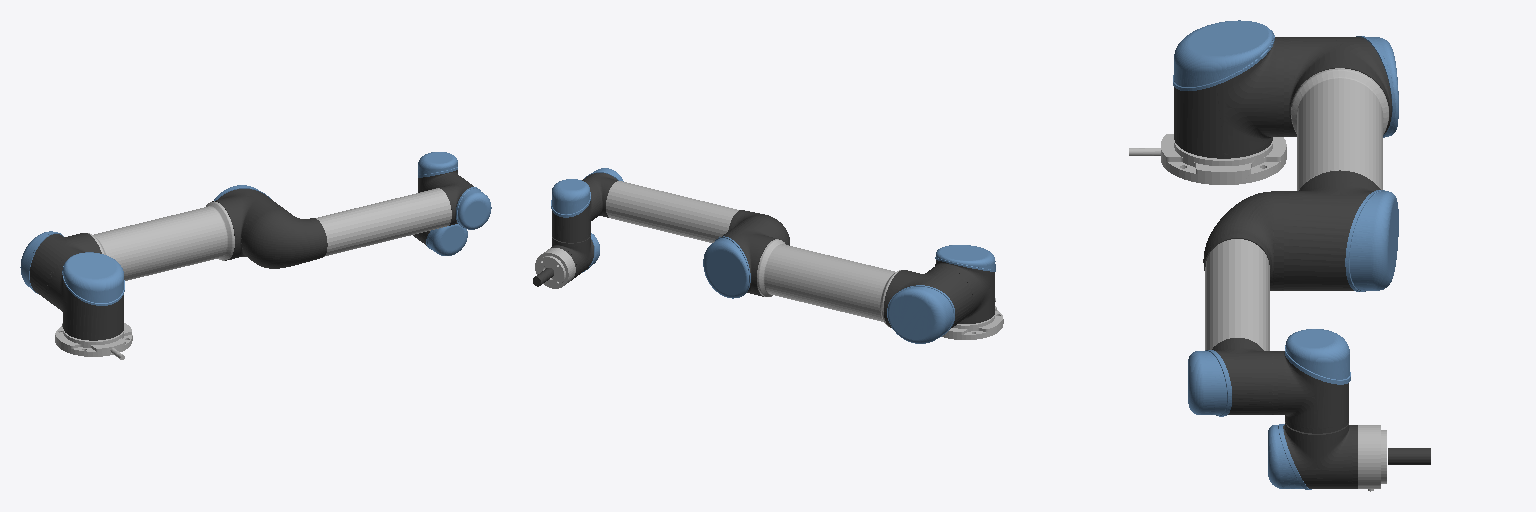
URDF robot description (ur5):
<?xml version="1.0" encoding="utf-8"?>
<!-- =================================================================================== -->
<!-- |    This document was autogenerated by xacro from ur5_robot.urdf.xacro           | -->
<!-- |    EDITING THIS FILE BY HAND IS NOT RECOMMENDED                                 | -->
<!-- =================================================================================== -->
<robot name="ur5">
  <!-- measured from model -->
  <!--property name="shoulder_height" value="0.089159" /-->
  <!--property name="shoulder_offset" value="0.13585" /-->
  <!-- shoulder_offset - elbow_offset + wrist_1_length = 0.10915 -->
  <!--property name="upper_arm_length" value="0.42500" /-->
  <!--property name="elbow_offset" value="0.1197" /-->
  <!-- CAD measured -->
  <!--property name="forearm_length" value="0.39225" /-->
  <!--property name="wrist_1_length" value="0.093" /-->
  <!-- CAD measured -->
  <!--property name="wrist_2_length" value="0.09465" /-->
  <!-- In CAD this distance is 0.930, but in the spec it is 0.09465 -->
  <!--property name="wrist_3_length" value="0.0823" /-->
  <!-- manually measured -->

  <!-- ~= Kd * (1+Ks) -->
  <material name="Rohr">
    <color rgba="0.75 0.75 0.75 1.0"/>
  </material>
  <material name="verbindung">
    <color rgba="0.3 0.3 0.3 1.0"/>
  </material>
  <material name="blau">
    <color rgba="0.45 0.6 0.75 1.0"/>
  </material>

  <material name="Rohr">
    <color rgba="0.524800 0.524800 0.524800 1.0"/>
  </material>
  <material name="verbindung">
    <color rgba="0.178400 0.178400 0.178400 1.0"/>
  </material>
  <material name="blau">
    <color rgba="0.313600 0.434400 0.512000 1.0"/>
  </material>

  <inertial name="fixing">
      <mass value="0.0"/>
      <origin rpy="0 0 0" xyz="0.0 0.0 0.0"/>
      <inertia ixx="0.0" ixy="0.0" ixz="0.0" iyy="0.0" iyz="0.0" izz="0.0"/>
  </inertial>


  <link name="base_link">
    <visual>
      <geometry>
        <mesh filename="base.obj"/>
      </geometry>
      <material name="Rohr"/>
    </visual>
    <collision>
      <geometry>
        <mesh filename="collision/base.stl"/>
      </geometry>
    </collision>
    <inertial>
      <mass value="4.0"/>
      <origin rpy="0 0 0" xyz="0.0 0.0 0.0"/>
      <inertia ixx="0.00443333156" ixy="0.0" ixz="0.0" iyy="0.00443333156" iyz="0.0" izz="0.0072"/>
    </inertial>
  </link>



  <joint name="shoulder_pan_joint" type="revolute">
    <parent link="base_link"/>
    <child link="shoulder_link"/>
    <origin rpy="0.0 0.0 0.0" xyz="0.0 0.0 0.089159"/>
    <axis xyz="0 0 1"/>
    <limit effort="150.0" lower="-6.28318530718" upper="6.28318530718" velocity="3.15"/>
    <dynamics damping="0.0" friction="0.0"/>
  </joint>
  <link name="shoulder_link">
    <visual>
      <geometry>
        <mesh filename="shoulder.obj"/>
      </geometry>
      <material name="verbindung"/>
    </visual>
    <collision>
      <geometry>
        <mesh filename="collision/shoulder.stl"/>
      </geometry>
    </collision>
    <inertial>
      <mass value="3.7"/>
      <origin rpy="0 0 0" xyz="0.0 0.0 0.0"/>
      <inertia ixx="0.010267495893" ixy="0.0" ixz="0.0" iyy="0.010267495893" iyz="0.0" izz="0.00666"/>
    </inertial>
  </link>
  <joint name="shoulder_pan_fix_joint" type="fixed">
    <parent link="shoulder_link"/>
    <child link="shoulder02_link"/>
  </joint>
  <link name="shoulder02_link">
    <visual>
      <geometry>
        <mesh filename="shoulder02.obj"/>
      </geometry>
      <material name="blau"/>
    </visual>
    <inertial>
        <mass value="0.0"/>
        <origin rpy="0 0 0" xyz="0.0 0.0 0.0"/>
        <inertia ixx="0.0" ixy="0.0" ixz="0.0" iyy="0.0" iyz="0.0" izz="0.0"/>
    </inertial>
  </link>



  <joint name="shoulder_lift_joint" type="revolute">
    <parent link="shoulder_link"/>
    <child link="upper_arm_link"/>
    <origin rpy="0.0 1.57079632679 0.0" xyz="0.0 0.13585 0.0"/>
    <axis xyz="0 1 0"/>
    <limit effort="150.0" lower="-6.28318530718" upper="6.28318530718" velocity="3.15"/>
    <dynamics damping="0.0" friction="0.0"/>
  </joint>
  <link name="upper_arm_link">
    <visual>
      <geometry>
        <mesh filename="upperarm.obj"/>
      </geometry>
      <material name="verbindung"/>
    </visual>
    <collision>
      <geometry>
        <mesh filename="upperarm.obj"/>
      </geometry>
    </collision>
    <inertial>
      <mass value="8.393"/>
      <origin rpy="0 0 0" xyz="0.0 0.0 0.28"/>
      <inertia ixx="0.22689067591" ixy="0.0" ixz="0.0" iyy="0.22689067591" iyz="0.0" izz="0.0151074"/>
    </inertial>
  </link>
  <joint name="shoulder_lift_fix02_joint" type="fixed">
    <parent link="upper_arm_link"/>
    <child link="upper_arm02_link"/>
  </joint>
  <link name="upper_arm02_link">
    <visual>
      <geometry>
        <mesh filename="upperarm02.obj"/>
      </geometry>
      <material name="Rohr"/>
    </visual>
    <collision>
      <geometry>
        <mesh filename="upperarm02.obj"/>
      </geometry>
    </collision>
    <inertial>
      <mass value="0.0"/>
      <origin rpy="0 0 0" xyz="0.0 0.0 0.0"/>
      <inertia ixx="0.0" ixy="0.0" ixz="0.0" iyy="0.0" iyz="0.0" izz="0.0"/>
    </inertial>
  </link>
  <joint name="shoulder_lift_fix03_joint" type="fixed">
    <parent link="upper_arm_link"/>
    <child link="upper_arm03_link"/>
  </joint>
  <link name="upper_arm03_link">
    <visual>
      <geometry>
        <mesh filename="upperarm03.obj"/>
      </geometry>
      <material name="verbindung"/>
    </visual>
    <collision>
      <geometry>
        <mesh filename="upperarm03.obj"/>
      </geometry>
    </collision>
    <inertial>
      <mass value="0.0"/>
      <origin rpy="0 0 0" xyz="0.0 0.0 0.0"/>
      <inertia ixx="0.0" ixy="0.0" ixz="0.0" iyy="0.0" iyz="0.0" izz="0.0"/>
    </inertial>
  </link>
  <joint name="shoulder_lift_fix_01_joint" type="fixed">
    <parent link="upper_arm_link"/>
    <child link="upper_arm_01_link"/>
  </joint>
  <link name="upper_arm_01_link">
    <visual>
      <geometry>
        <mesh filename="upperarm_01.obj"/>
      </geometry>
      <material name="blau"/>
    </visual>
    <collision>
      <geometry>
        <mesh filename="upperarm_01.obj"/>
      </geometry>
    </collision>
    <inertial>
      <mass value="0.0"/>
      <origin rpy="0 0 0" xyz="0.0 0.0 0.0"/>
      <inertia ixx="0.0" ixy="0.0" ixz="0.0" iyy="0.0" iyz="0.0" izz="0.0"/>
    </inertial>
  </link>
  <joint name="shoulder_lift_fix03_01_joint" type="fixed">
    <parent link="upper_arm_link"/>
    <child link="upper_arm03_01_link"/>
  </joint>
  <link name="upper_arm03_01_link">
    <visual>
      <geometry>
        <mesh filename="upperarm03_01.obj"/>
      </geometry>
      <material name="blau"/>
    </visual>
    <collision>
      <geometry>
        <mesh filename="upperarm03_01.obj"/>
      </geometry>
    </collision>
    <inertial>
      <mass value="0.0"/>
      <origin rpy="0 0 0" xyz="0.0 0.0 0.0"/>
      <inertia ixx="0.0" ixy="0.0" ixz="0.0" iyy="0.0" iyz="0.0" izz="0.0"/>
    </inertial>
  </link>



  <joint name="elbow_joint" type="revolute">
    <parent link="upper_arm_link"/>
    <child link="forearm_link"/>
    <origin rpy="0.0 0.0 0.0" xyz="0.0 -0.1197 0.425"/>
    <axis xyz="0 1 0"/>
    <limit effort="150.0" lower="-3.14159265359" upper="3.14159265359" velocity="3.15"/>
    <dynamics damping="0.0" friction="0.0"/>
  </joint>
  <link name="forearm_link">
    <visual>
      <geometry>
        <mesh filename="forearm.obj"/>
      </geometry>
      <material name="verbindung"/>
    </visual>
    <collision>
      <geometry>
        <mesh filename="forearm.obj"/>
      </geometry>
    </collision>
    <inertial>
      <mass value="2.275"/>
      <origin rpy="0 0 0" xyz="0.0 0.0 0.196125"/>
      <inertia ixx="0.0312167910289" ixy="0.0" ixz="0.0" iyy="0.0312167910289" iyz="0.0" izz="0.004095"/>
    </inertial>
  </link>
  <joint name="elbow_fix02_joint" type="fixed">
    <parent link="forearm_link"/>
    <child link="forearm02_link"/>
  </joint>
  <link name="forearm02_link">
    <visual>
      <geometry>
        <mesh filename="forearm02.obj"/>
      </geometry>
      <material name="Rohr"/>
    </visual>
    <collision>
      <geometry>
        <mesh filename="forearm02.obj"/>
      </geometry>
    </collision>
    <inertial>
      <mass value="0.0"/>
      <origin rpy="0 0 0" xyz="0.0 0.0 0.0"/>
      <inertia ixx="0.0" ixy="0.0" ixz="0.0" iyy="0.0" iyz="0.0" izz="0.0"/>
    </inertial>
  </link>
  <joint name="elbow_fix03_joint" type="fixed">
    <parent link="forearm_link"/>
    <child link="forearm03_link"/>
  </joint>
  <link name="forearm03_link">
    <visual>
      <geometry>
        <mesh filename="forearm03.obj"/>
      </geometry>
      <material name="verbindung"/>
    </visual>
    <collision>
      <geometry>
        <mesh filename="forearm03.obj"/>
      </geometry>
    </collision>
    <inertial>
      <mass value="0.0"/>
      <origin rpy="0 0 0" xyz="0.0 0.0 0.0"/>
      <inertia ixx="0.0" ixy="0.0" ixz="0.0" iyy="0.0" iyz="0.0" izz="0.0"/>
    </inertial>
  </link>
  <joint name="elbow_fix03_01_joint" type="fixed">
    <parent link="forearm_link"/>
    <child link="forearm03_01_link"/>
  </joint>
  <link name="forearm03_01_link">
    <visual>
      <geometry>
        <mesh filename="forearm03_01.obj"/>
      </geometry>
      <material name="blau"/>
    </visual>
    <collision>
      <geometry>
        <mesh filename="forearm03_01.obj"/>
      </geometry>
    </collision>
    <inertial>
      <mass value="0.0"/>
      <origin rpy="0 0 0" xyz="0.0 0.0 0.0"/>
      <inertia ixx="0.0" ixy="0.0" ixz="0.0" iyy="0.0" iyz="0.0" izz="0.0"/>
    </inertial>
  </link>



  <joint name="wrist_1_joint" type="revolute">
    <parent link="forearm_link"/>
    <child link="wrist_1_link"/>
    <origin rpy="0.0 1.57079632679 0.0" xyz="0.0 0.0 0.39225"/>
    <axis xyz="0 1 0"/>
    <limit effort="28.0" lower="-6.28318530718" upper="6.28318530718" velocity="3.2"/>
    <dynamics damping="0.0" friction="0.0"/>
  </joint>
  <link name="wrist_1_link">
    <visual>
      <geometry>
        <mesh filename="wrist1.obj"/>
      </geometry>
      <material name="verbindung"/>
    </visual>
    <collision>
      <geometry>
        <mesh filename="wrist1.obj"/>
      </geometry>
    </collision>
    <inertial>
      <mass value="1.219"/>
      <origin rpy="0 0 0" xyz="0.0 0.093 0.0"/>
      <inertia ixx="0.00255989897604" ixy="0.0" ixz="0.0" iyy="0.00255989897604" iyz="0.0" izz="0.0021942"/>
    </inertial>
  </link>
  <joint name="wrist_1_fix_joint" type="fixed">
    <parent link="wrist_1_link"/>
    <child link="wrist_1_01_link"/>
  </joint>
  <link name="wrist_1_01_link">
    <visual>
      <geometry>
        <mesh filename="wrist1_01.obj"/>
      </geometry>
      <material name="blau"/>
    </visual>
    <collision>
      <geometry>
        <mesh filename="wrist1_01.obj"/>
      </geometry>
    </collision>
    <inertial>
      <mass value="0.0"/>
      <origin rpy="0 0 0" xyz="0.0 0.0 0.0"/>
      <inertia ixx="0.0" ixy="0.0" ixz="0.0" iyy="0.0" iyz="0.0" izz="0.0"/>
    </inertial>
  </link>



  <joint name="wrist_2_joint" type="revolute">
    <parent link="wrist_1_link"/>
    <child link="wrist_2_link"/>
    <origin rpy="0.0 0.0 0.0" xyz="0.0 0.093 0.0"/>
    <axis xyz="0 0 1"/>
    <limit effort="28.0" lower="-6.28318530718" upper="6.28318530718" velocity="3.2"/>
    <dynamics damping="0.0" friction="0.0"/>
  </joint>
  <link name="wrist_2_link">
    <visual>
      <geometry>
        <mesh filename="wrist2.obj"/>
      </geometry>
      <material name="verbindung"/>
    </visual>
    <collision>
      <geometry>
        <mesh filename="wrist2.obj"/>
      </geometry>
    </collision>
    <inertial>
      <mass value="1.219"/>
      <origin rpy="0 0 0" xyz="0.0 0.0 0.09465"/>
      <inertia ixx="0.00255989897604" ixy="0.0" ixz="0.0" iyy="0.00255989897604" iyz="0.0" izz="0.0021942"/>
    </inertial>
  </link>
  <joint name="wrist_2_fix_joint" type="fixed">
    <parent link="wrist_2_link"/>
    <child link="wrist_2_01_link"/>
  </joint>
  <link name="wrist_2_01_link">
    <visual>
      <geometry>
        <mesh filename="wrist2_01.obj"/>
      </geometry>
      <material name="blau"/>
    </visual>
    <collision>
      <geometry>
        <mesh filename="wrist2_01.obj"/>
      </geometry>
    </collision>
    <inertial>
      <mass value="0.0"/>
      <origin rpy="0 0 0" xyz="0.0 0.0 0.0"/>
      <inertia ixx="0.0" ixy="0.0" ixz="0.0" iyy="0.0" iyz="0.0" izz="0.0"/>
    </inertial>
  </link>



  <joint name="wrist_3_joint" type="revolute">
    <parent link="wrist_2_link"/>
    <child link="wrist_3_link"/>
    <origin rpy="0.0 0.0 0.0" xyz="0.0 0.0 0.09465"/>
    <axis xyz="0 1 0"/>
    <limit effort="28.0" lower="-6.28318530718" upper="6.28318530718" velocity="3.2"/>
    <dynamics damping="0.0" friction="0.0"/>
  </joint>
  <link name="wrist_3_link">
    <visual>
      <geometry>
        <mesh filename="wrist3.obj"/>
      </geometry>
      <material name="Rohr"/>
    </visual>
    <collision>
      <geometry>
        <mesh filename="wrist3.obj"/>
      </geometry>
    </collision>
    <inertial>
      <mass value="0.1879"/>
      <origin rpy="1.57079632679 0 0" xyz="0.0 0.06505 0.0"/>
      <inertia ixx="8.46958911216e-05" ixy="0.0" ixz="0.0" iyy="8.46958911216e-05" iyz="0.0" izz="0.0001321171875"/>
    </inertial>
  </link>



  <joint name="ee_fixed_joint" type="fixed">
    <parent link="wrist_3_link"/>
    <child link="ee_link"/>
    <origin rpy="0.0 0.0 1.57079632679" xyz="0.0 0.0823 0.0"/>
  </joint>
  <link name="ee_link">
    <collision>
      <geometry>
        <box size="0.01 0.01 0.01"/>
      </geometry>
      <origin rpy="0 0 0" xyz="-0.01 0 0"/>
    </collision>
    <inertial>
      <mass value="0.0"/>
      <origin rpy="0 0 0" xyz="0.0 0.0 0.0"/>
      <inertia ixx="0.0" ixy="0.0" ixz="0.0" iyy="0.0" iyz="0.0" izz="0.0"/>
    </inertial>
  </link>



  <transmission name="shoulder_pan_trans">
    <type>transmission_interface/SimpleTransmission</type>
    <joint name="shoulder_pan_joint">
      <hardwareInterface>hardware_interface/PositionJointInterface</hardwareInterface>
    </joint>
    <actuator name="shoulder_pan_motor">
      <mechanicalReduction>1</mechanicalReduction>
    </actuator>
  </transmission>
  <transmission name="shoulder_lift_trans">
    <type>transmission_interface/SimpleTransmission</type>
    <joint name="shoulder_lift_joint">
      <hardwareInterface>hardware_interface/PositionJointInterface</hardwareInterface>
    </joint>
    <actuator name="shoulder_lift_motor">
      <mechanicalReduction>1</mechanicalReduction>
    </actuator>
  </transmission>
  <transmission name="elbow_trans">
    <type>transmission_interface/SimpleTransmission</type>
    <joint name="elbow_joint">
      <hardwareInterface>hardware_interface/PositionJointInterface</hardwareInterface>
    </joint>
    <actuator name="elbow_motor">
      <mechanicalReduction>1</mechanicalReduction>
    </actuator>
  </transmission>
  <transmission name="wrist_1_trans">
    <type>transmission_interface/SimpleTransmission</type>
    <joint name="wrist_1_joint">
      <hardwareInterface>hardware_interface/PositionJointInterface</hardwareInterface>
    </joint>
    <actuator name="wrist_1_motor">
      <mechanicalReduction>1</mechanicalReduction>
    </actuator>
  </transmission>
  <transmission name="wrist_2_trans">
    <type>transmission_interface/SimpleTransmission</type>
    <joint name="wrist_2_joint">
      <hardwareInterface>hardware_interface/PositionJointInterface</hardwareInterface>
    </joint>
    <actuator name="wrist_2_motor">
      <mechanicalReduction>1</mechanicalReduction>
    </actuator>
  </transmission>
  <transmission name="wrist_3_trans">
    <type>transmission_interface/SimpleTransmission</type>
    <joint name="wrist_3_joint">
      <hardwareInterface>hardware_interface/PositionJointInterface</hardwareInterface>
    </joint>
    <actuator name="wrist_3_motor">
      <mechanicalReduction>1</mechanicalReduction>
    </actuator>
  </transmission>
  <gazebo reference="shoulder_link">
    <selfCollide>true</selfCollide>
  </gazebo>
  <gazebo reference="upper_arm_link">
    <selfCollide>true</selfCollide>
  </gazebo>
  <gazebo reference="forearm_link">
    <selfCollide>true</selfCollide>
  </gazebo>
  <gazebo reference="wrist_1_link">
    <selfCollide>true</selfCollide>
  </gazebo>
  <gazebo reference="wrist_3_link">
    <selfCollide>true</selfCollide>
  </gazebo>
  <gazebo reference="wrist_2_link">
    <selfCollide>true</selfCollide>
  </gazebo>
  <gazebo reference="ee_link">
    <selfCollide>true</selfCollide>
  </gazebo>
  <!-- ROS base_link to UR 'Base' Coordinates transform -->
  <link name="base">
    <inertial>
      <mass value="0.0"/>
      <origin rpy="0 0 0" xyz="0.0 0.0 0.0"/>
      <inertia ixx="0.0" ixy="0.0" ixz="0.0" iyy="0.0" iyz="0.0" izz="0.0"/>
    </inertial>
  </link>
  <joint name="base_link-base_fixed_joint" type="fixed">
    <!-- NOTE: this rotation is only needed as long as base_link itself is
                 not corrected wrt the real robot (ie: rotated over 180
                 degrees)
      -->
    <origin rpy="0 0 -3.14159265359" xyz="0 0 0"/>
    <parent link="base_link"/>
    <child link="base"/>
  </joint>


  <!-- Frame coincident with all-zeros TCP on UR controller -->
  <joint name="wrist_3_link-tool0_fixed_joint" type="fixed">
    <origin rpy="-1.57079632679 0 0" xyz="0 0.0823 0"/>
    <parent link="wrist_3_link"/>
    <child link="tool0"/>
  </joint>
  <link name="tool0">
    <inertial>
      <mass value="0.0"/>
      <origin rpy="0 0 0" xyz="0.0 0.0 0.0"/>
      <inertia ixx="0.0" ixy="0.0" ixz="0.0" iyy="0.0" iyz="0.0" izz="0.0"/>
    </inertial>
  </link>
  <joint name="cup_bar_joint_fixed" type="fixed">
    <origin rpy="0 0 0" xyz="0 0 0.025"/>
    <parent link="tool0"/>
    <child link="cup_bar"/>
  </joint>
  <link name="cup_bar">
    <visual>
      <geometry>
        <cylinder length="0.05" radius="0.01"/>
      </geometry>
      <material name="verbindung"/>
    </visual>
    <collision>
      <geometry>
        <cylinder length="0.05" radius="0.01"/>
      </geometry>
    </collision>
    <inertial>
      <mass value="0.01"/>
      <origin rpy="0 0 0" xyz="0.0 0.0 0.0"/>
      <inertia ixx="0.0" ixy="0.0" ixz="0.0" iyy="0.0" iyz="0.0" izz="0.0"/>
    </inertial>
  </link>


  <link name="world"/>
  <joint name="world_joint" type="fixed">
    <parent link="world"/>
    <child link="base_link"/>
    <origin rpy="0.0 0.0 0.0" xyz="0.0 0.0 0.0"/>
  </joint>
</robot>

--- What the picture shows (computed from the rendered views, not written in the file) ---
Views: 3 orthographic renders of the robot side by side, from view 1: azimuth 30°, elevation 25°; view 2: azimuth 150°, elevation 25°; view 3: azimuth 270°, elevation 25°.
Model ur5 with 22 links and 21 joints (6 revolute, 15 fixed), rooted at world, posed all joints at 0.
Visible links, largest first — view 1: upper_arm02_link, forearm02_link, forearm_link, shoulder_link, shoulder02_link, upper_arm_link, upper_arm03_link, base_link, forearm03_01_link, wrist_2_01_link, wrist_1_01_link, forearm03_link (+1 smaller); view 2: upper_arm02_link, forearm02_link, upper_arm_01_link, upper_arm03_01_link, upper_arm_link, shoulder_link, upper_arm03_link, wrist_1_01_link, wrist_1_link, shoulder02_link, wrist_3_link, base_link (+3 smaller); view 3: upper_arm02_link, shoulder_link, upper_arm03_link, forearm02_link, shoulder02_link, upper_arm03_01_link, upper_arm_link, wrist_1_link, base_link, forearm_link, wrist_2_link, forearm03_link (+6 smaller).
Link boxes in pixels (x1=…): upper_arm02_link: x1=88, y1=201, x2=234, y2=280; forearm02_link: x1=316, y1=188, x2=451, y2=256; forearm_link: x1=243, y1=207, x2=327, y2=268; shoulder_link: x1=49, y1=257, x2=123, y2=340; shoulder02_link: x1=62, y1=252, x2=124, y2=305; upper_arm_link: x1=30, y1=233, x2=101, y2=305; upper_arm03_link: x1=212, y1=189, x2=283, y2=260; base_link: x1=55, y1=323, x2=132, y2=359; forearm03_01_link: x1=456, y1=187, x2=491, y2=229; wrist_2_01_link: x1=426, y1=224, x2=467, y2=255; wrist_1_01_link: x1=418, y1=152, x2=457, y2=177; forearm03_link: x1=435, y1=175, x2=473, y2=225; upper_arm02_link: x1=757, y1=239, x2=900, y2=326; forearm02_link: x1=606, y1=181, x2=738, y2=242; upper_arm_01_link: x1=887, y1=285, x2=954, y2=343; upper_arm03_01_link: x1=703, y1=236, x2=750, y2=298; upper_arm_link: x1=884, y1=267, x2=972, y2=327; shoulder_link: x1=932, y1=260, x2=994, y2=323; upper_arm03_link: x1=722, y1=220, x2=779, y2=296; wrist_1_01_link: x1=551, y1=179, x2=590, y2=217; wrist_1_link: x1=552, y1=190, x2=599, y2=242; shoulder02_link: x1=935, y1=245, x2=995, y2=271; wrist_3_link: x1=535, y1=248, x2=575, y2=288; base_link: x1=942, y1=298, x2=1003, y2=339; upper_arm02_link: x1=1291, y1=68, x2=1388, y2=190; shoulder_link: x1=1174, y1=37, x2=1283, y2=158; upper_arm03_link: x1=1284, y1=170, x2=1380, y2=290; forearm02_link: x1=1205, y1=239, x2=1269, y2=350; shoulder02_link: x1=1173, y1=20, x2=1274, y2=90; upper_arm03_01_link: x1=1345, y1=190, x2=1398, y2=291; upper_arm_link: x1=1284, y1=37, x2=1391, y2=136; wrist_1_link: x1=1278, y1=351, x2=1348, y2=433; base_link: x1=1129, y1=134, x2=1286, y2=184; forearm_link: x1=1203, y1=191, x2=1283, y2=290; wrist_2_link: x1=1283, y1=422, x2=1357, y2=488; forearm03_link: x1=1212, y1=338, x2=1277, y2=414.
Bounding box of the posed robot: 0.9295 × 0.3514 × 0.2062 m (x, y, z).
17 mesh visuals loaded from 17 distinct referenced files (17 OBJ).
